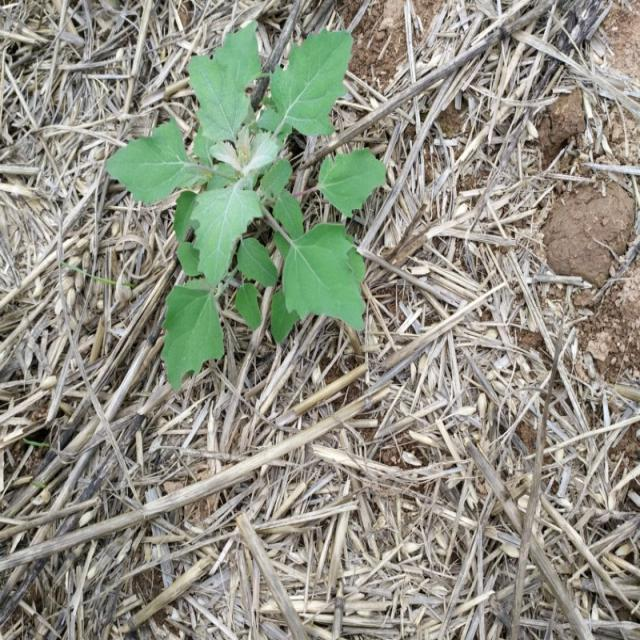ca: (164, 24, 388, 390)
